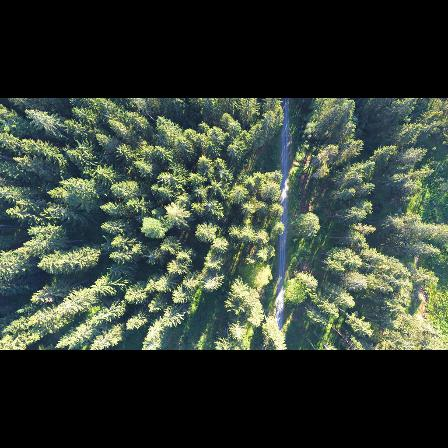Sick: (213, 164, 231, 182), (143, 247, 158, 266), (200, 202, 216, 214)
